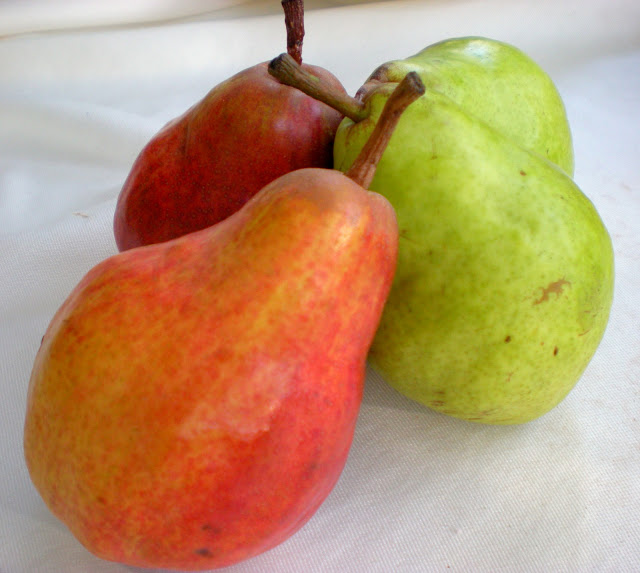pear: (21, 176, 376, 573), (277, 57, 608, 424), (101, 16, 364, 228)
